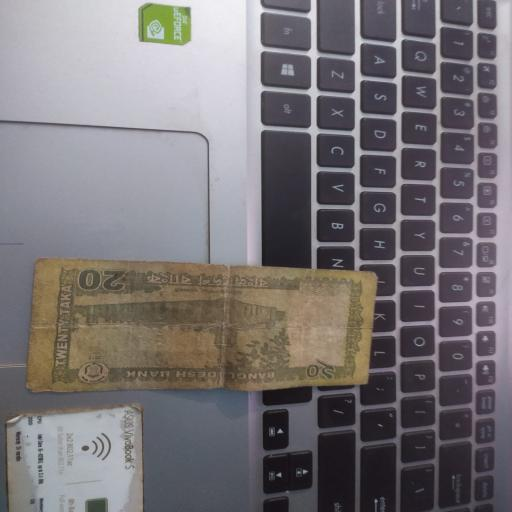20taka: (26, 259, 377, 392)
